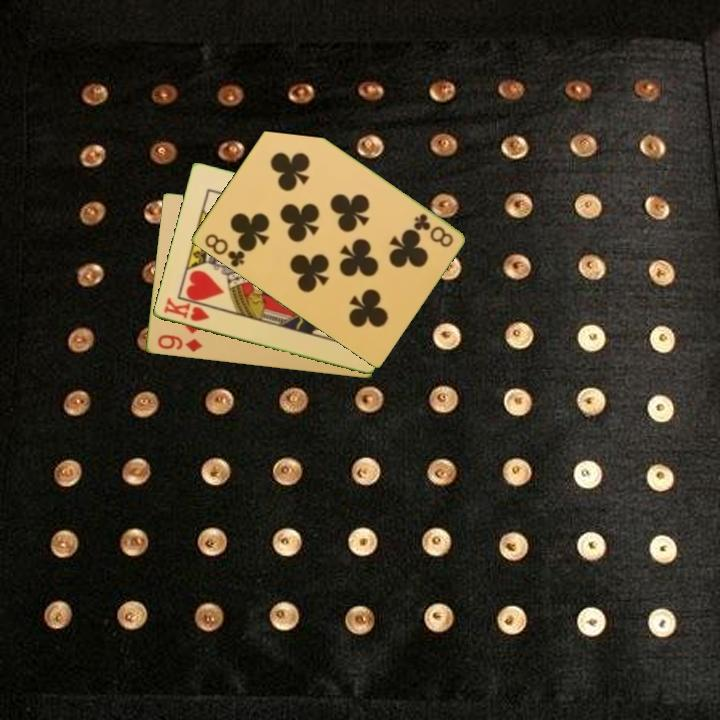8c: (200, 230, 249, 270), (409, 210, 456, 250)
9d: (154, 331, 205, 355)
Kh: (160, 294, 212, 325)
